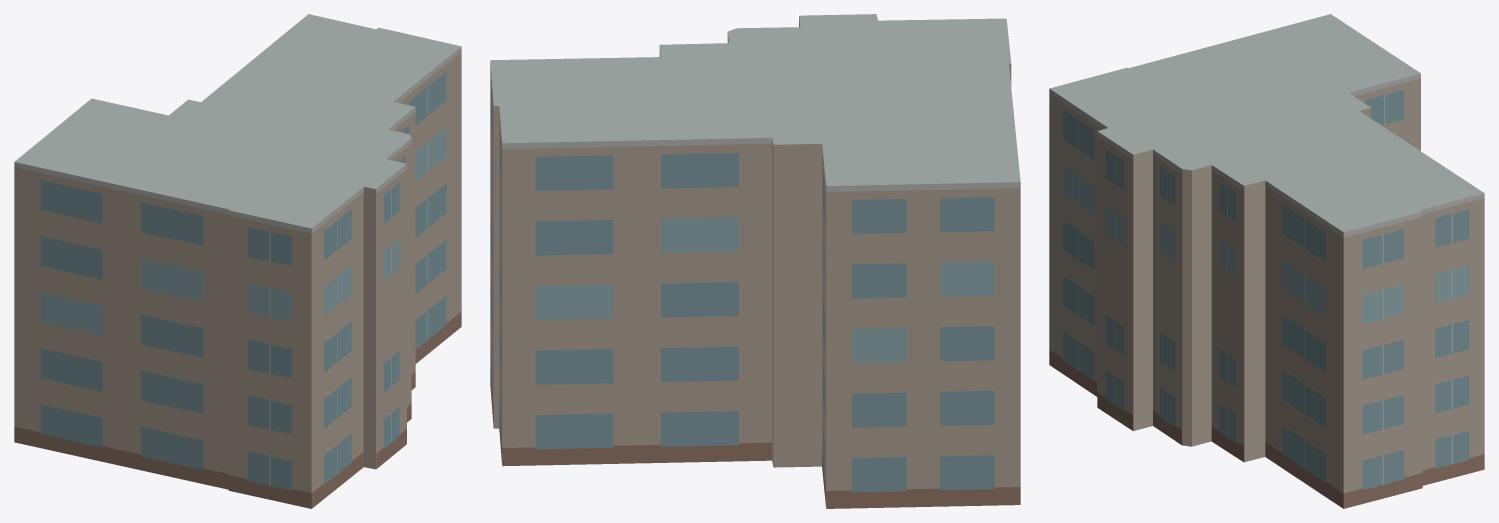
File: survey-upis-33002916.glb
The picture shows the model from 3 angles, left to right: view 1: azimuth 30°, elevation 25°; view 2: azimuth 150°, elevation 25°; view 3: azimuth 270°, elevation 25°; orthographic projection. The views are drawn at different scales.
Visible parts, largest first — view 1: survey-upis-33002916.tmp; view 2: survey-upis-33002916.tmp; view 3: survey-upis-33002916.tmp.
Boxes of the visible parts, x1=… form: survey-upis-33002916.tmp: x1=14, y1=14, x2=461, y2=508; survey-upis-33002916.tmp: x1=490, y1=14, x2=1020, y2=508; survey-upis-33002916.tmp: x1=1049, y1=14, x2=1484, y2=508.
Size of the model in its own units: 22.55 by 13.3 by 18.98.
